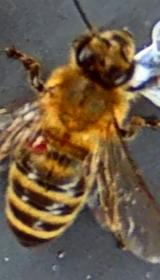varroa_mite: (16, 122, 52, 156)
